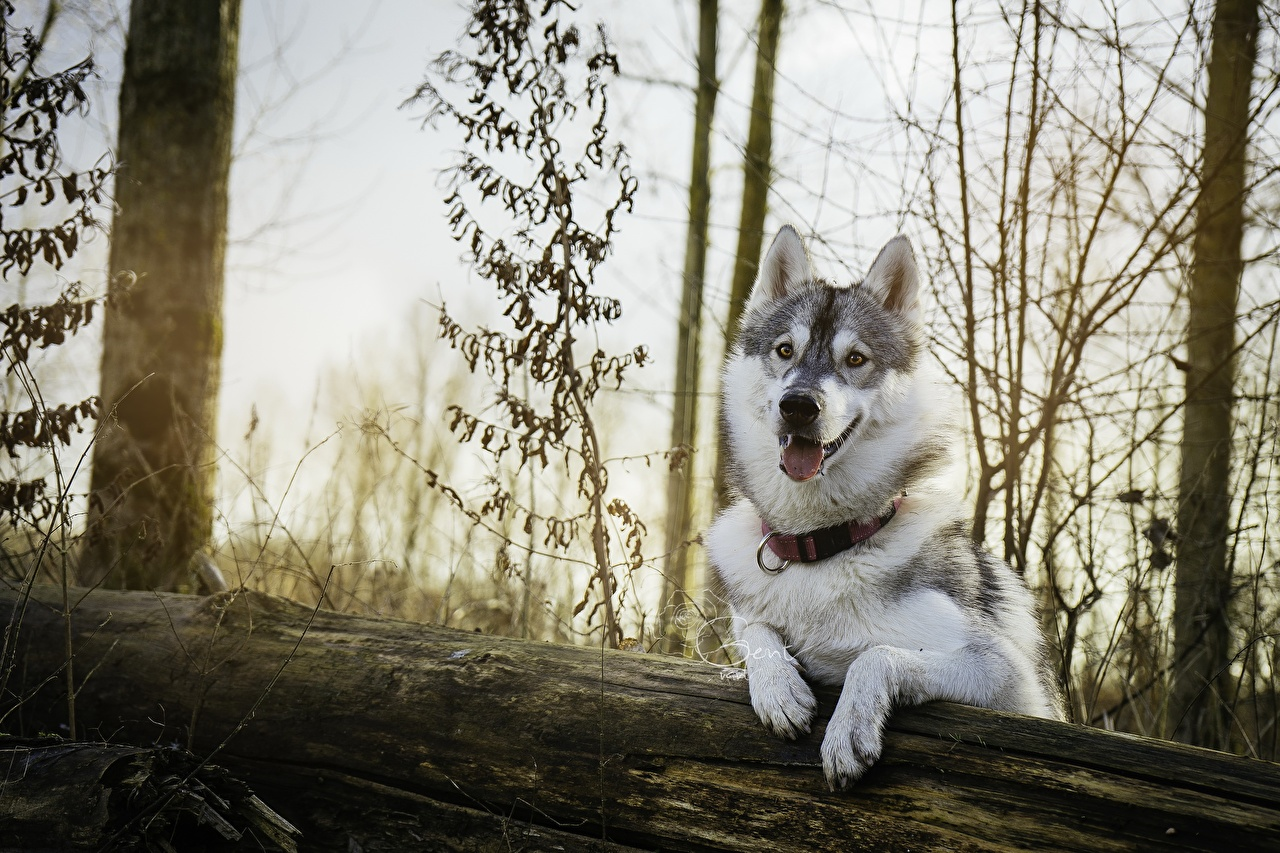husky: (705, 170, 990, 814)
